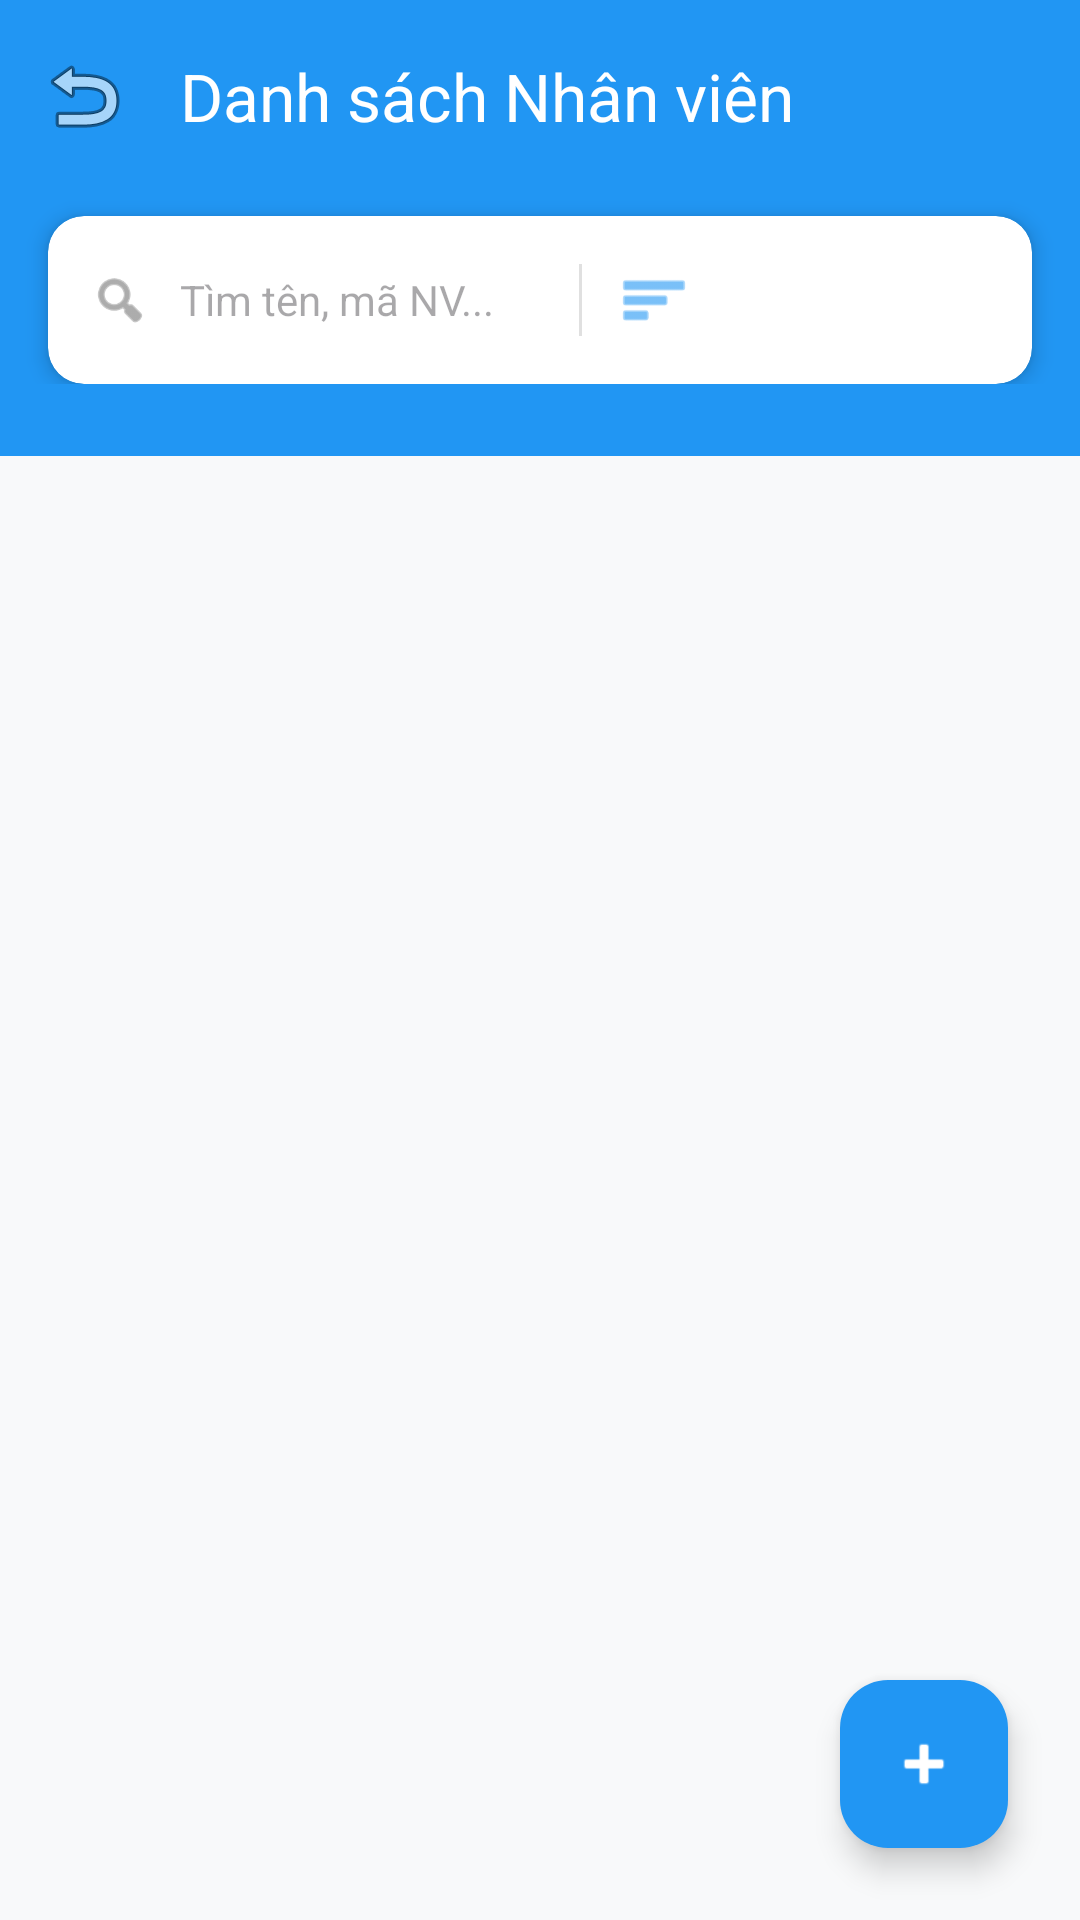

Icons on this 1080x1920 Android screen, each with the point to tap as (x,y):
add: (924,1764)
search: (120,300)
sort by size: (654,300)
